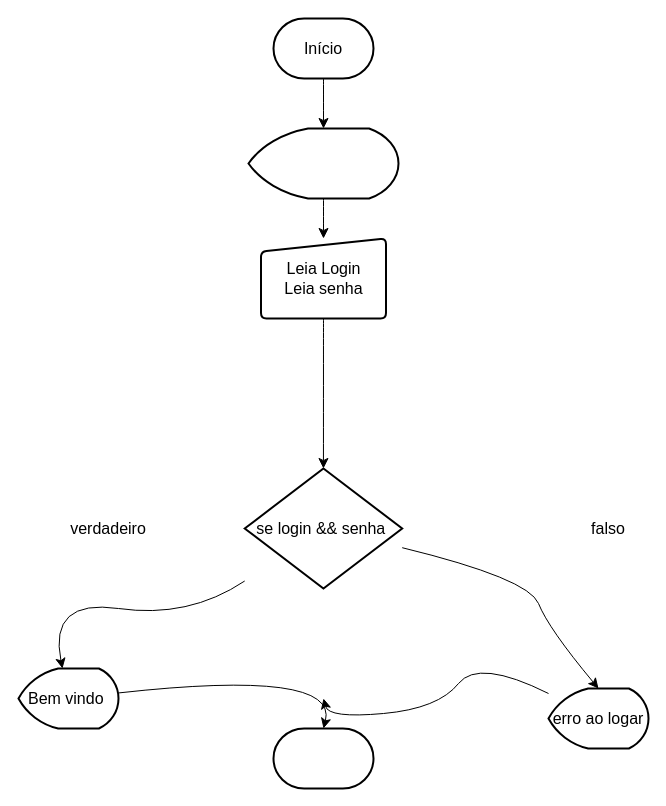
The diagram is 666 pixels wide and 806 high, and some of its shapes have lost their labels. The centre of each missing label's shape, as x and y in pixels:
"Digite email Digite senha" goes at point (323, 163).
"Fim" goes at point (323, 758).
